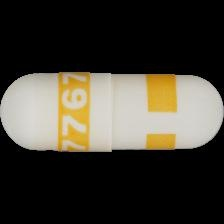50436-7701: (0, 0, 224, 224)
